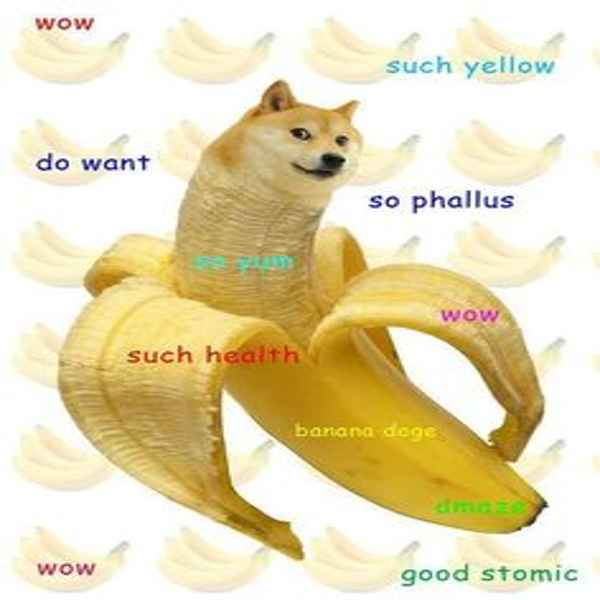doge: (238, 80, 369, 200)
